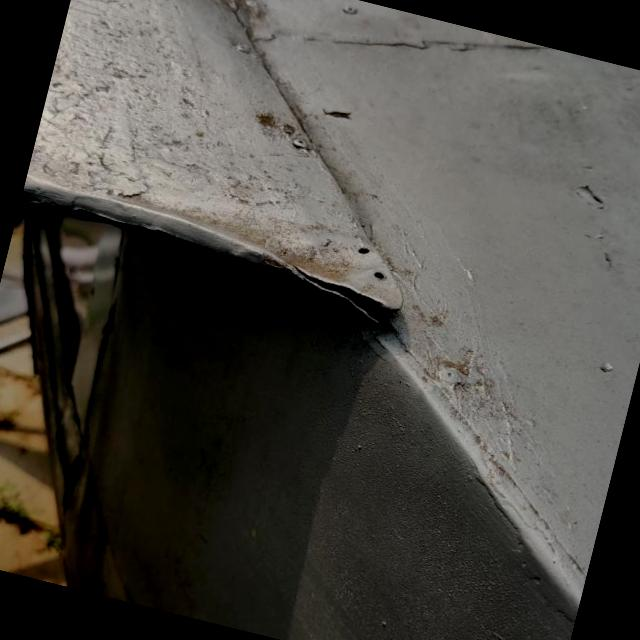Missing Fastener: (334, 228, 378, 262), (361, 260, 398, 292)
